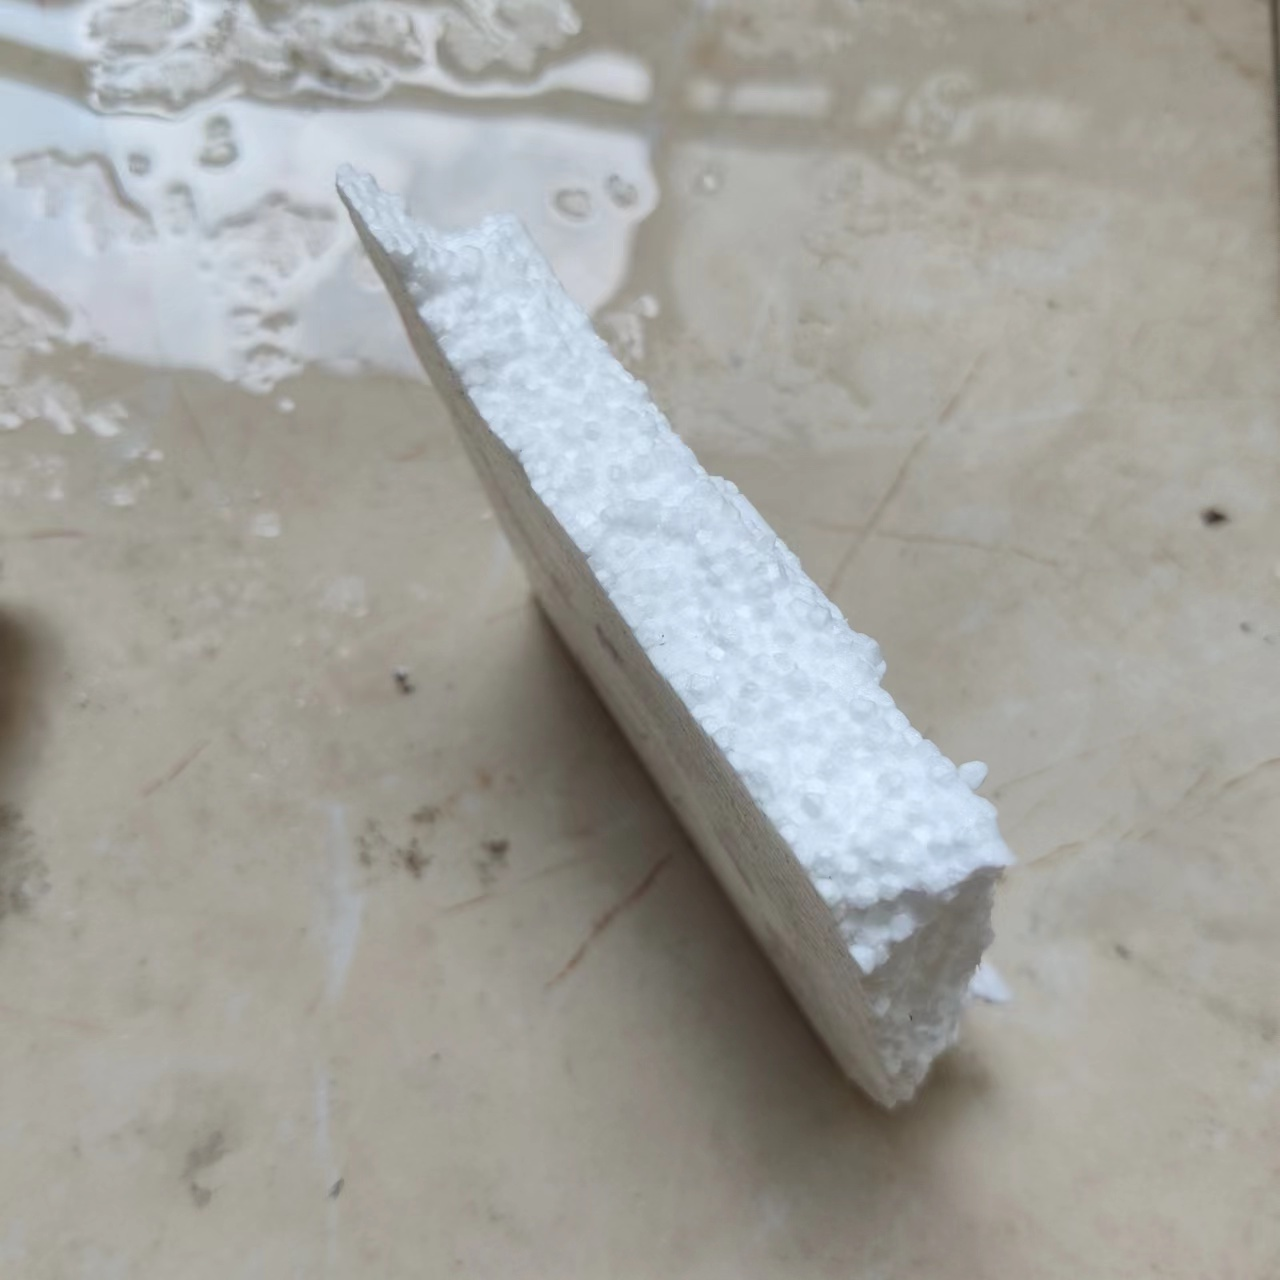5/可回收垃圾/泡沫: (331, 159, 1013, 1116)
